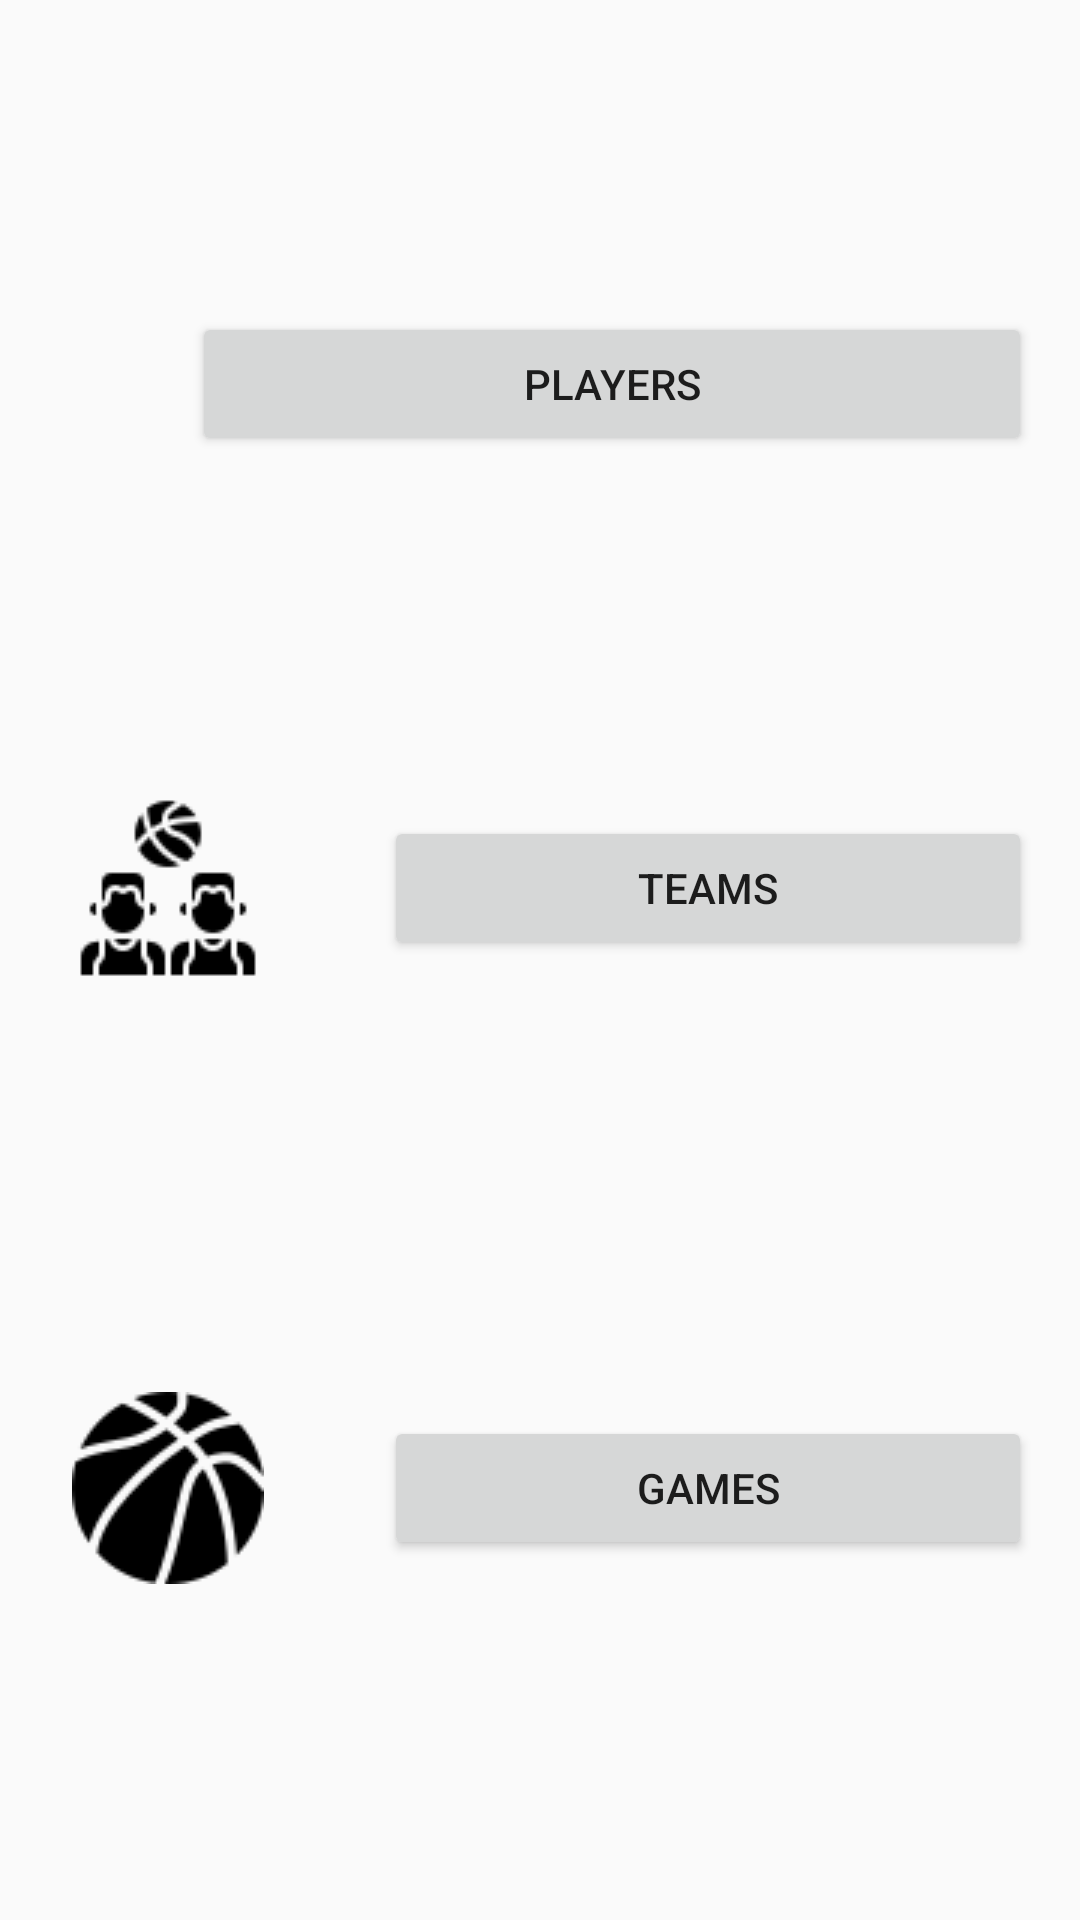

Icon click points for this 1080px×1920px phone screenshot, format (x=x, y=y):
Basketball: (x=168, y=1488)
Two basketball players: (x=168, y=888)
